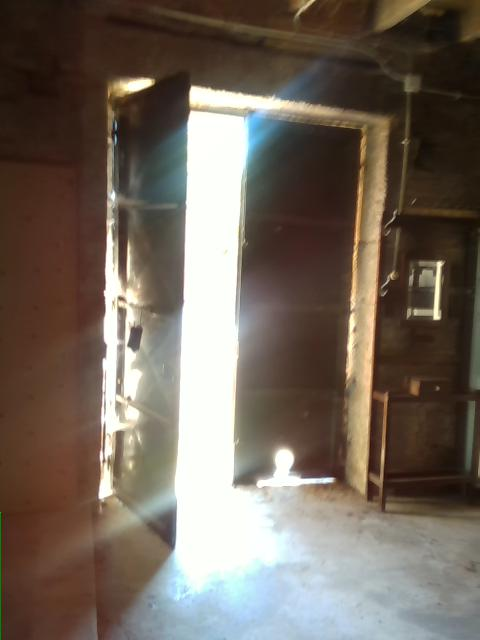semi_door: (92, 64, 386, 551)
